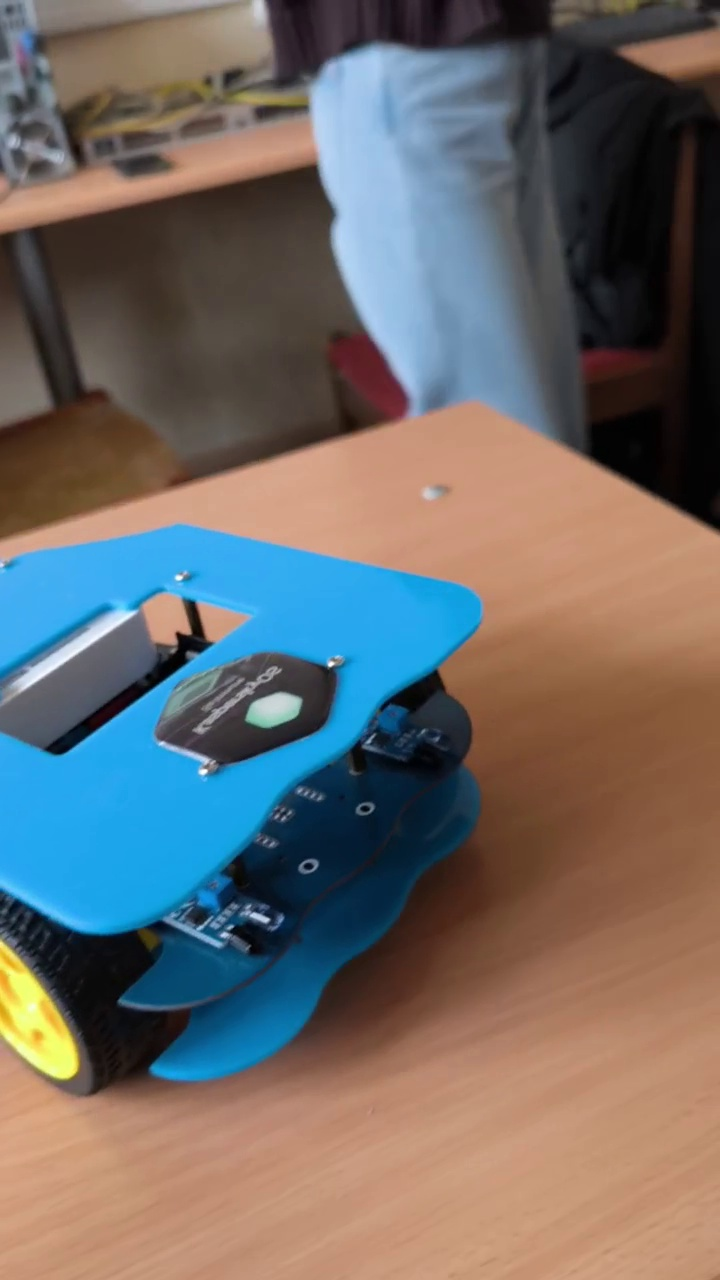robot: (1, 520, 485, 1099)
